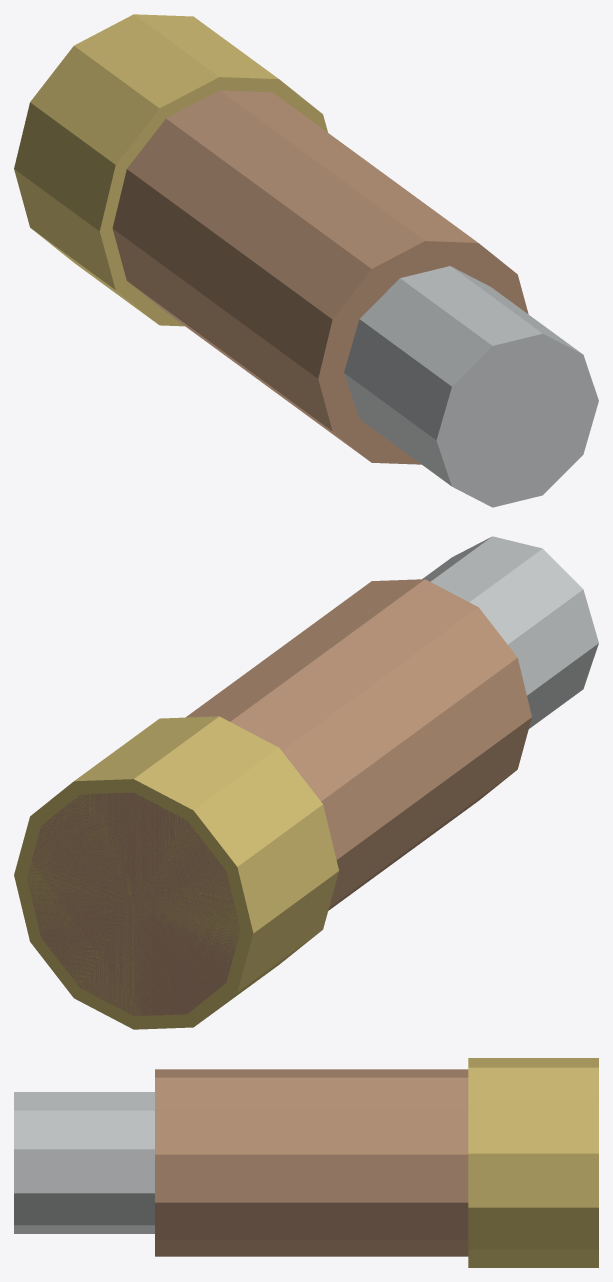
File: ammo_22.glb
The picture shows the model from 3 angles, top to bottom: view 1: azimuth 30°, elevation 25°; view 2: azimuth 150°, elevation 25°; view 3: azimuth 270°, elevation 25°; orthographic projection. The views are drawn at different scales.
Parts seen in each view (by area): view 1: 00_brass_case, 02_projectile, 01_rim; view 2: 00_brass_case, 01_rim, 02_projectile; view 3: 00_brass_case, 01_rim, 02_projectile.
Boxes of the visible parts, bbox=[...] form: 00_brass_case: bbox=[112, 90, 528, 464]; 02_projectile: bbox=[344, 266, 598, 507]; 01_rim: bbox=[14, 14, 327, 326]; 00_brass_case: bbox=[27, 579, 531, 1016]; 01_rim: bbox=[14, 716, 338, 1029]; 02_projectile: bbox=[422, 536, 598, 728]; 00_brass_case: bbox=[155, 1069, 468, 1256]; 01_rim: bbox=[468, 1058, 598, 1267]; 02_projectile: bbox=[14, 1092, 154, 1233].
Size of the model in its own units: 0.0403 by 0.0403 by 0.112.
